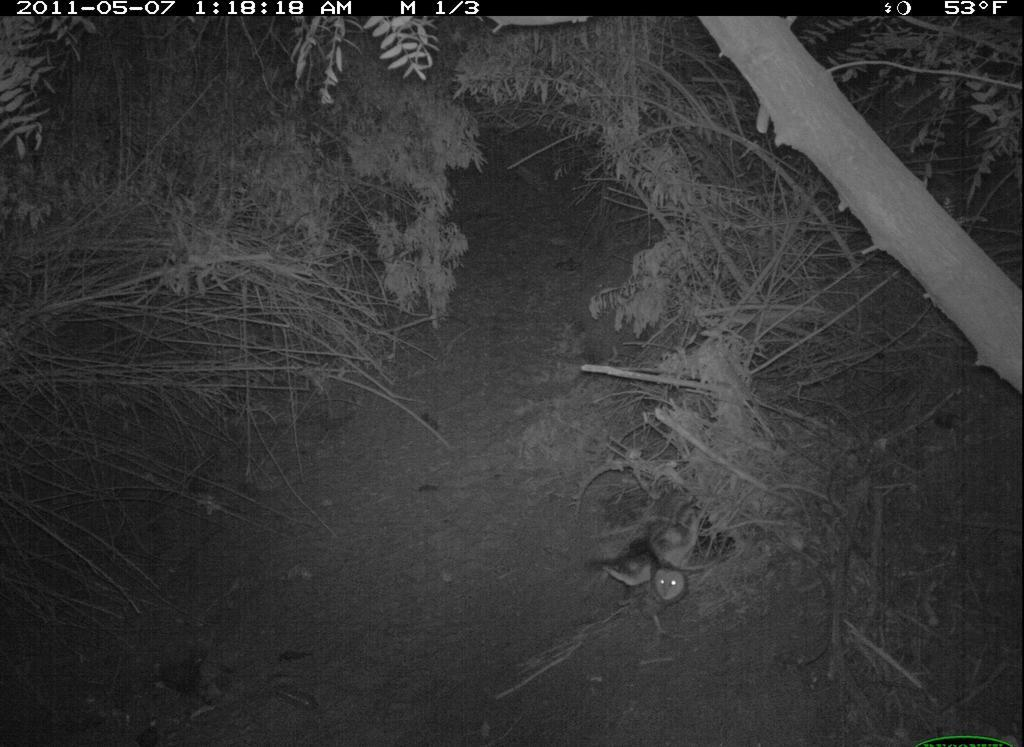bird: (602, 502, 703, 611)
